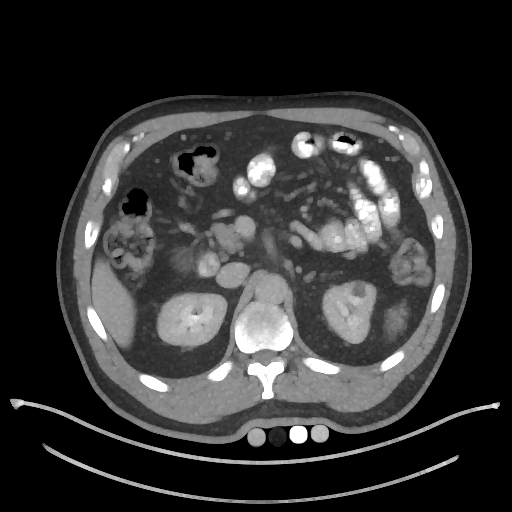Lesion: (344, 278, 373, 302)
